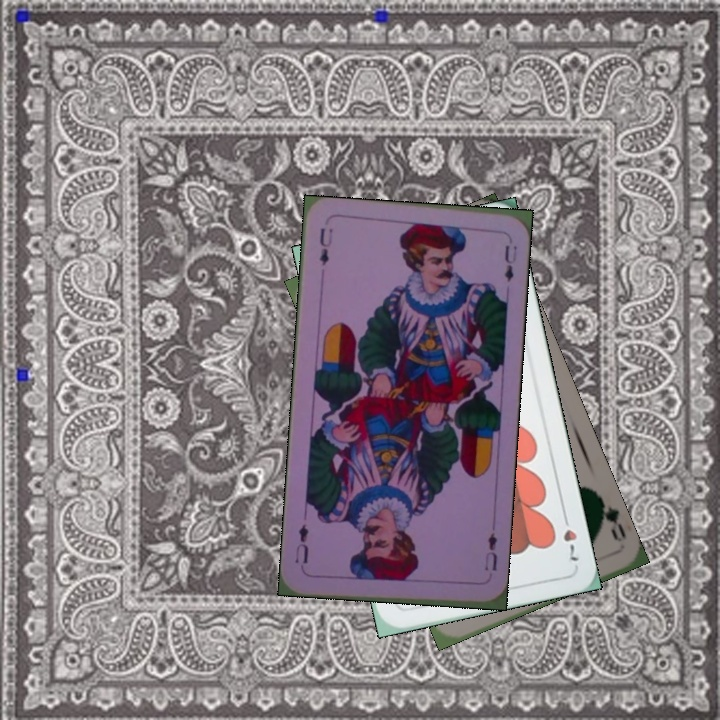EU: (480, 528, 500, 574), (315, 224, 335, 268)
GO: (593, 491, 629, 545)
H7: (558, 509, 582, 566)
